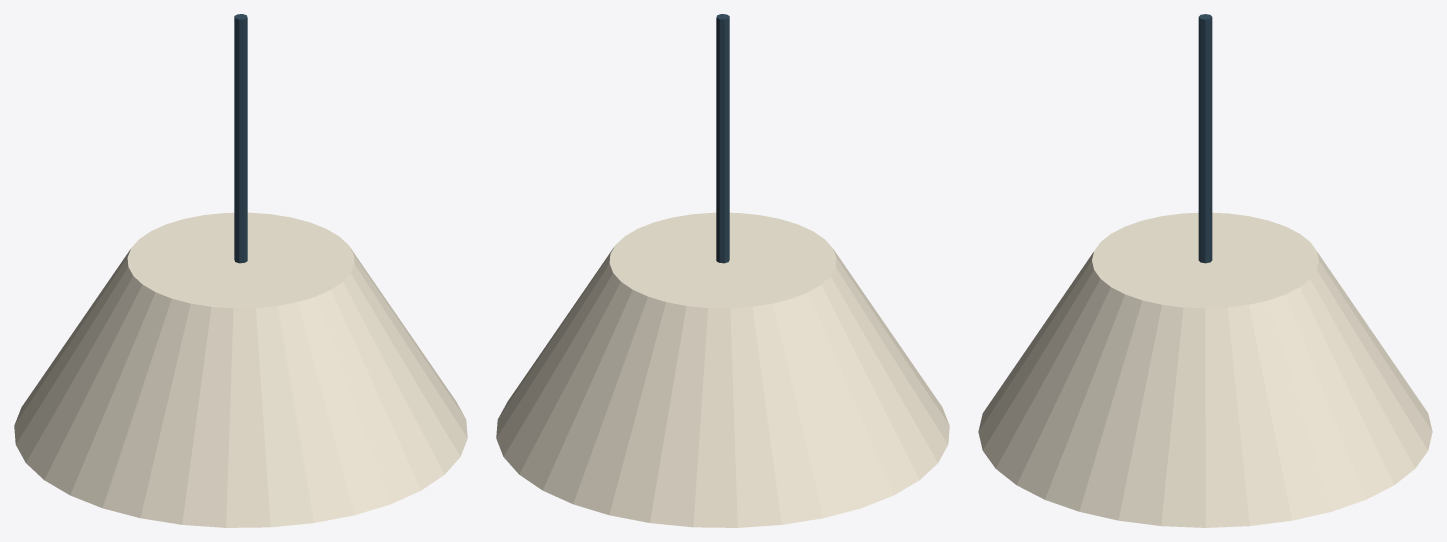
The model's file is pendant.glb.
3 views of the same model, side by side, from view 1: azimuth 30°, elevation 25°; view 2: azimuth 150°, elevation 25°; view 3: azimuth 270°, elevation 25° (orthographic).
Visible parts, largest first — view 1: pendant_Mesh; view 2: pendant_Mesh; view 3: pendant_Mesh.
Part boxes in pixels (left/top/right/bottom): pendant_Mesh: left=14, top=14, right=467, bottom=527; pendant_Mesh: left=496, top=14, right=949, bottom=527; pendant_Mesh: left=978, top=14, right=1432, bottom=527.
Bounding box in the file's own units: 0.6 × 0.617 × 0.6.
